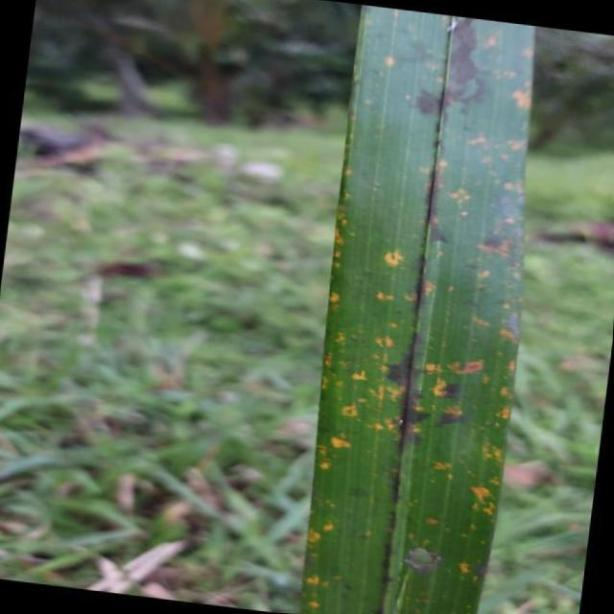Healthy: (302, 0, 536, 614)
